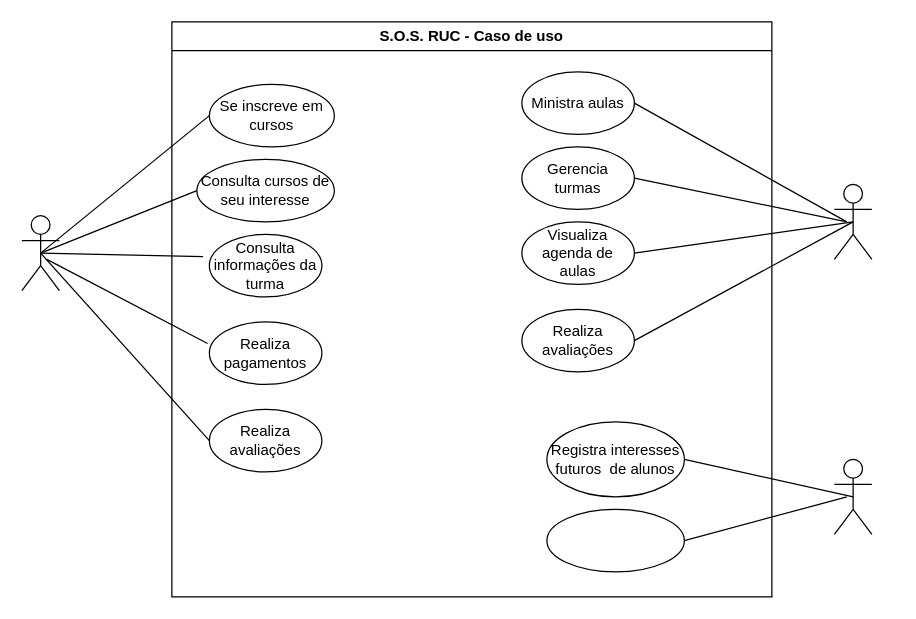
Some shapes in this 916 by 619 pixel diagram are drawn without their labels. Each missing label, with the centre of its shape:
"Aluno" belongs at point (40, 252).
"Atendimento" belongs at point (852, 496).
"Consulta dados de alunos" belongs at point (615, 540).
"Professor" belongs at point (852, 221).
